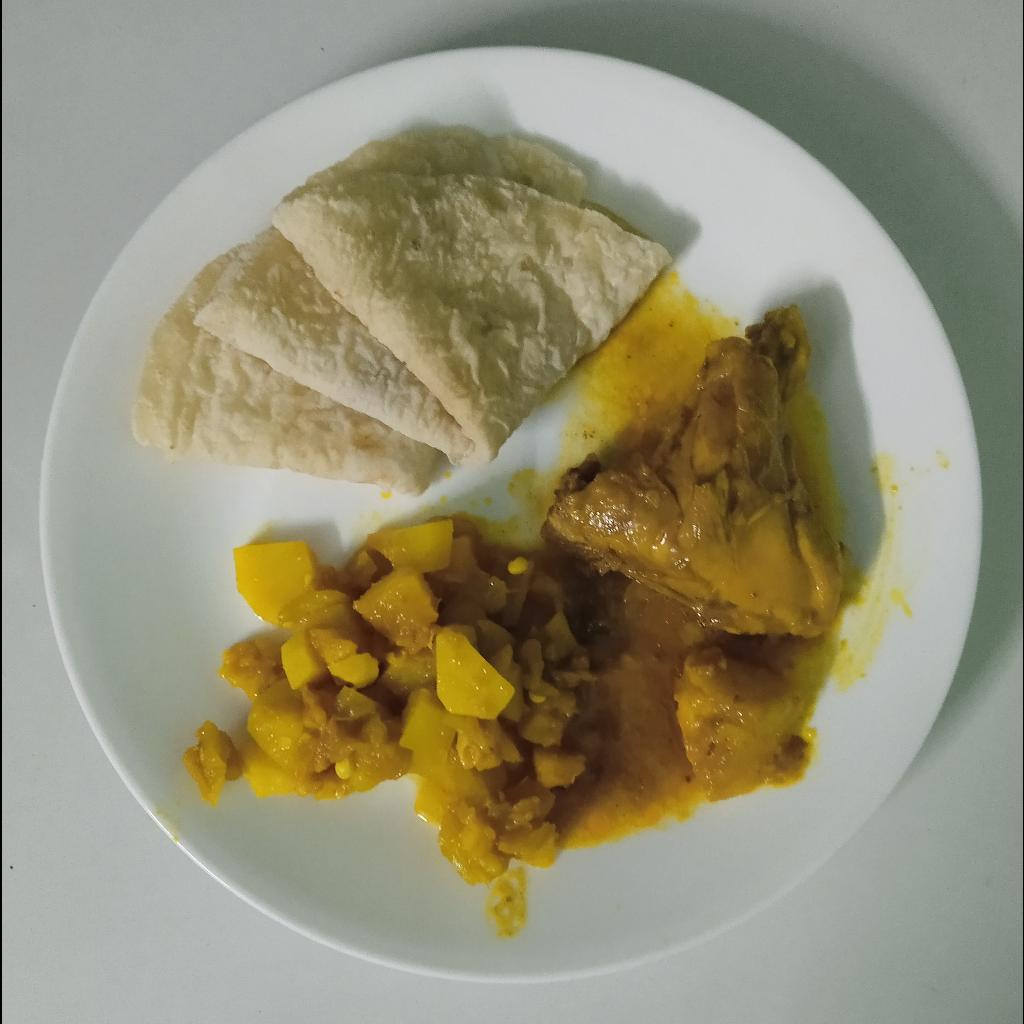chicken: (537, 305, 845, 639)
potato: (675, 649, 808, 805)
ruti: (128, 125, 675, 498)
vegetable: (183, 518, 601, 890)
